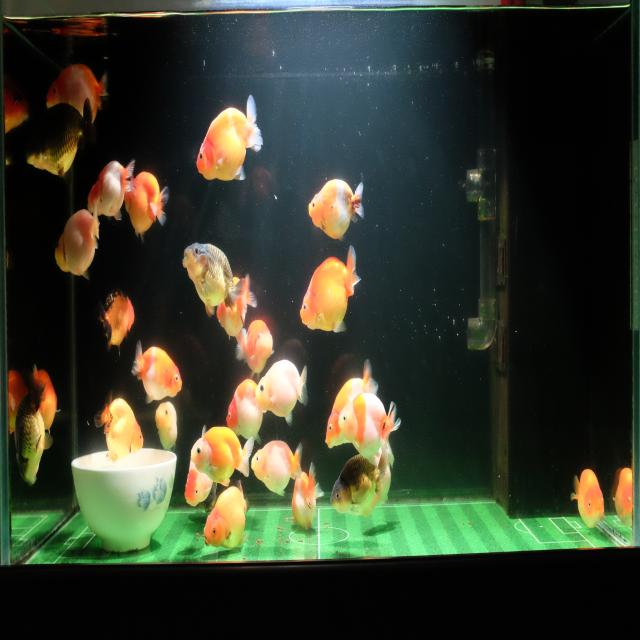Tilapia: (196, 92, 262, 185), (299, 244, 361, 337), (24, 99, 94, 180), (182, 239, 246, 320), (324, 358, 379, 452), (338, 390, 402, 470), (12, 374, 52, 491), (44, 59, 110, 127), (190, 424, 254, 488), (307, 174, 366, 242), (254, 355, 310, 426), (52, 203, 102, 280), (93, 390, 145, 464), (330, 453, 387, 518), (130, 337, 183, 406), (202, 477, 249, 554), (248, 437, 304, 500), (124, 170, 170, 245), (87, 155, 136, 224), (223, 377, 267, 448), (95, 284, 135, 358), (216, 271, 258, 340), (234, 314, 276, 380), (290, 461, 323, 535), (571, 466, 606, 530), (182, 451, 214, 512), (153, 399, 178, 455), (611, 468, 634, 528)
